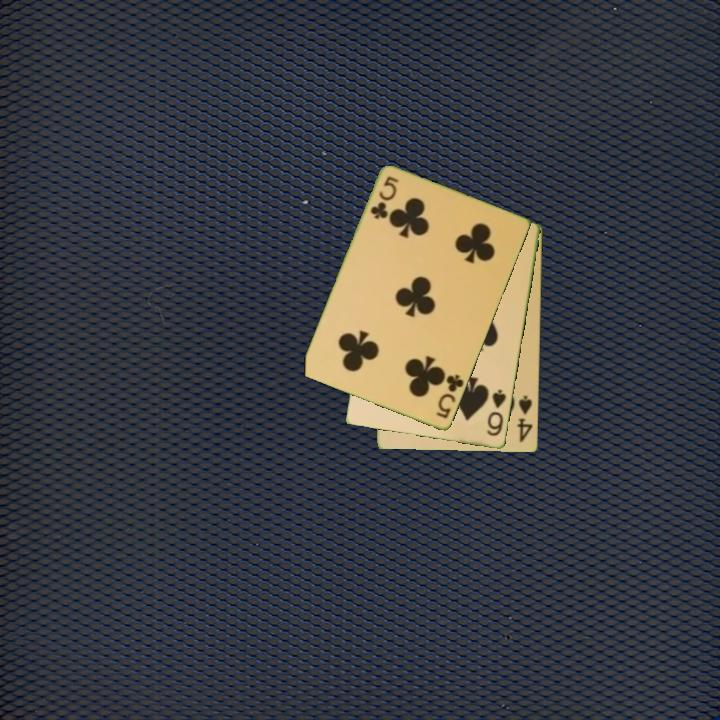4s: (514, 392, 536, 446)
5c: (367, 173, 402, 223), (433, 371, 467, 422)
6s: (484, 386, 509, 439)
